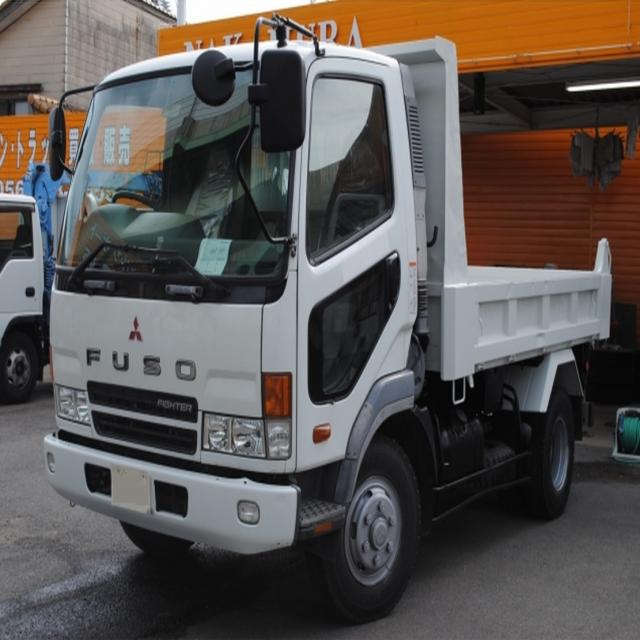truck: (42, 14, 613, 605)
